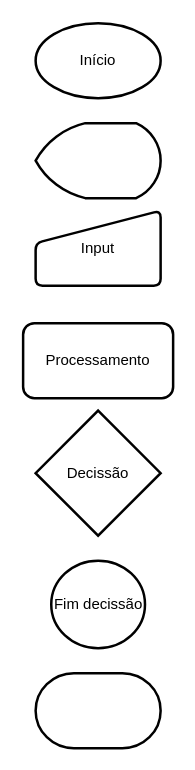
Image size: 195x770. Some labels were removed from this diagram. The box of each missing label's shape, as (x1, y1, x2, y2) in pixels:
Display: (34, 121, 161, 199)
Fim: (34, 671, 161, 749)
